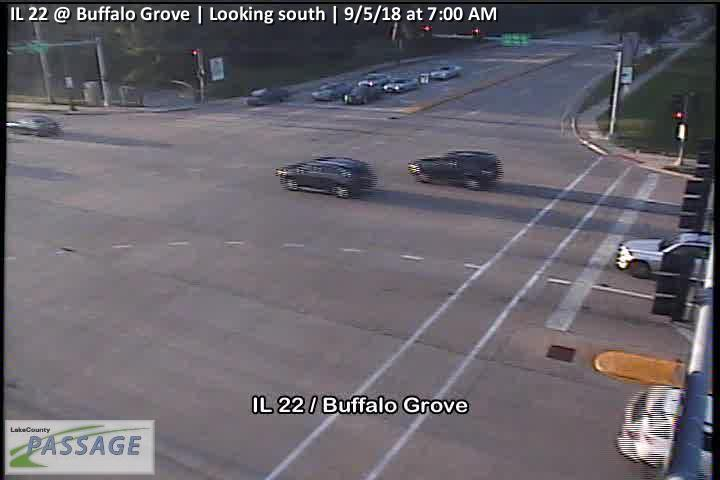Sedan: (614, 229, 718, 279), (273, 154, 372, 199), (409, 148, 500, 190), (311, 81, 348, 99), (342, 85, 377, 104), (383, 76, 419, 94), (356, 70, 389, 86), (428, 64, 460, 80)
